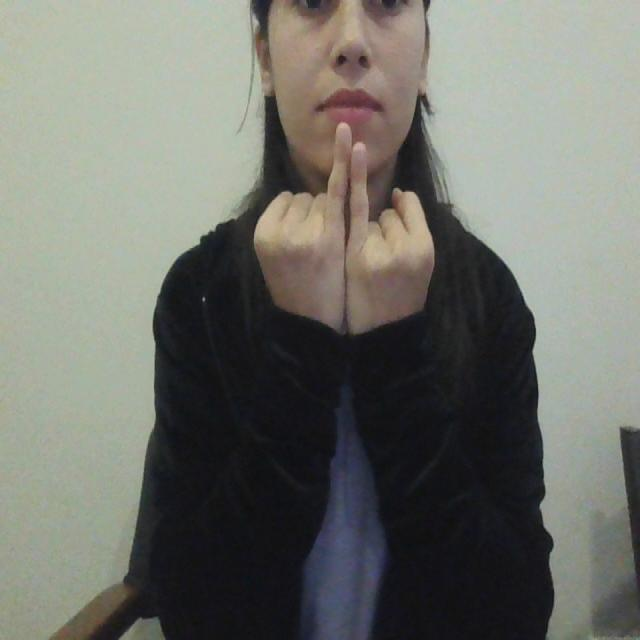Kardes: (248, 118, 438, 350)
